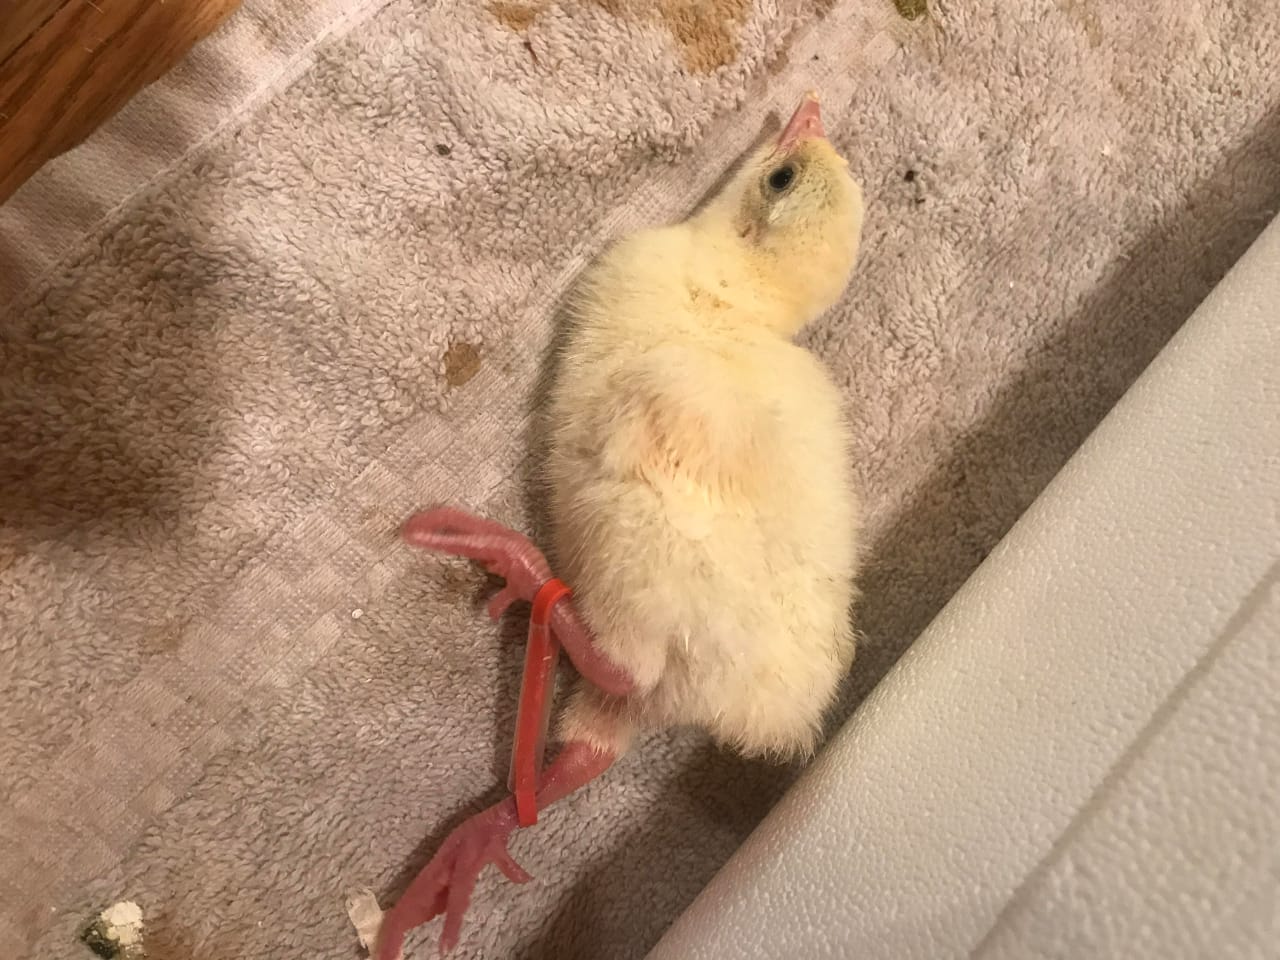Unhealthy: (391, 83, 904, 845)
